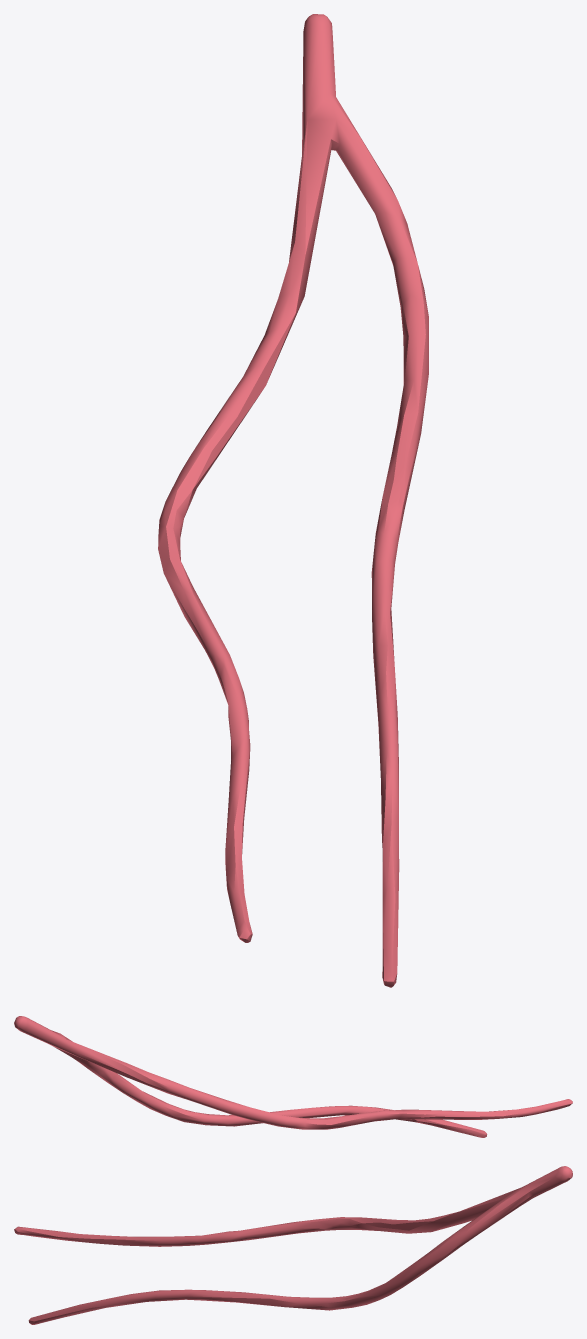
File: fma49957_fj5118.glb
3 renders of one model, top to bottom at view 1: azimuth 30°, elevation 25°; view 2: azimuth 150°, elevation 25°; view 3: azimuth 270°, elevation 25°, orthographic. The views are drawn at different scales.
Parts seen in each view (by area): view 1: FMA49957_FJ5118; view 2: FMA49957_FJ5118; view 3: FMA49957_FJ5118.
Part boxes in pixels (x1,y1,x2,y2): FMA49957_FJ5118: (158, 14, 428, 987); FMA49957_FJ5118: (14, 1016, 572, 1137); FMA49957_FJ5118: (14, 1166, 572, 1324).
Bounding box in the file's own units: 0.0131 × 0.0105 × 0.0197.
